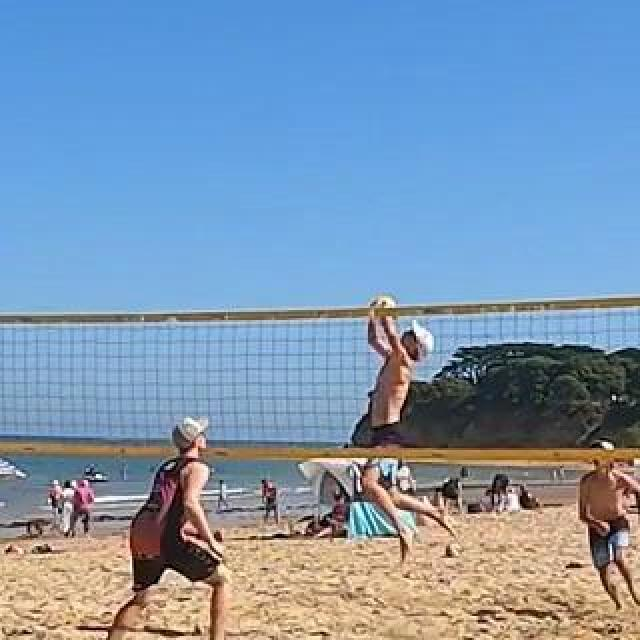volleyball: (369, 296, 399, 326), (445, 542, 463, 560)
